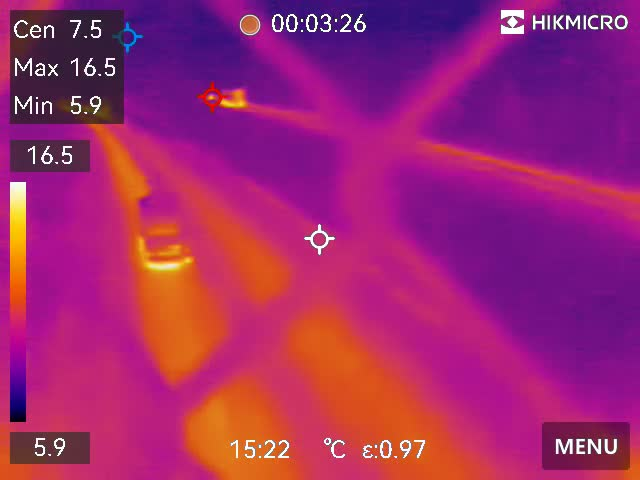heavyTruck: (210, 87, 251, 109)
